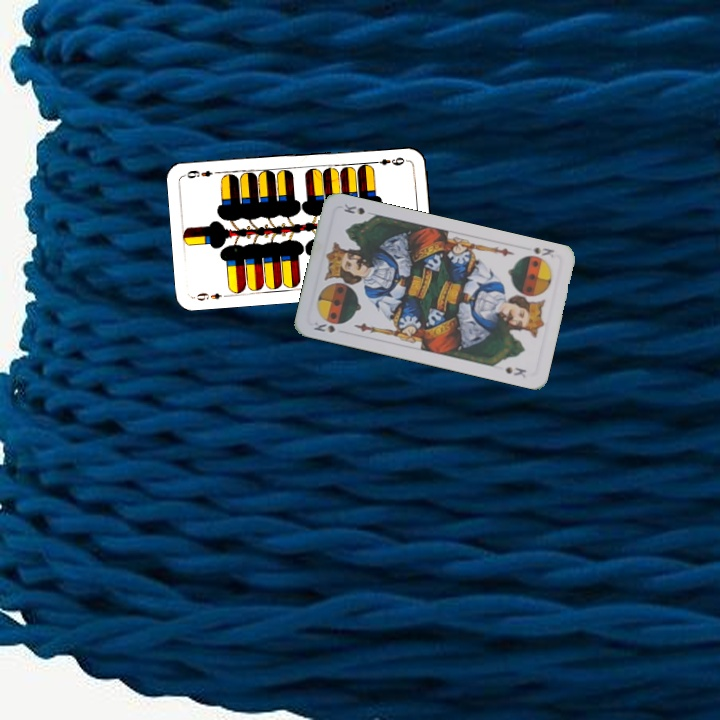E9: (369, 153, 410, 168), (190, 288, 231, 303)
SK: (310, 318, 338, 335), (530, 243, 557, 260)
